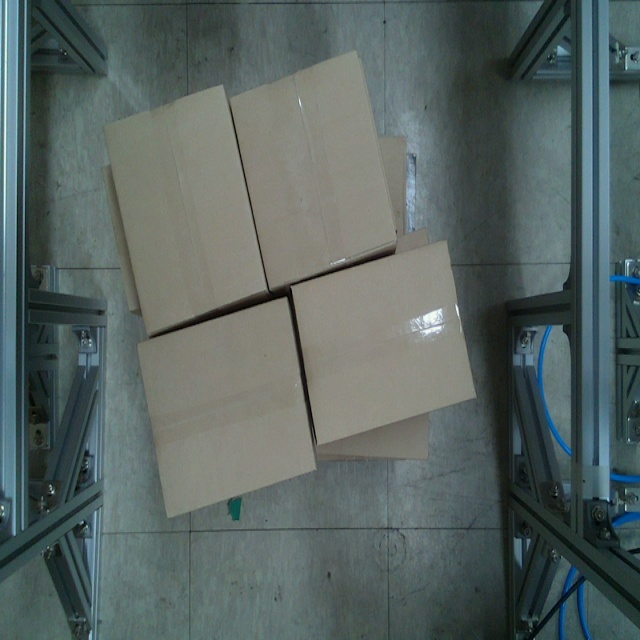box: (101, 80, 270, 341), (131, 293, 320, 523), (228, 48, 399, 291), (294, 240, 475, 447)
